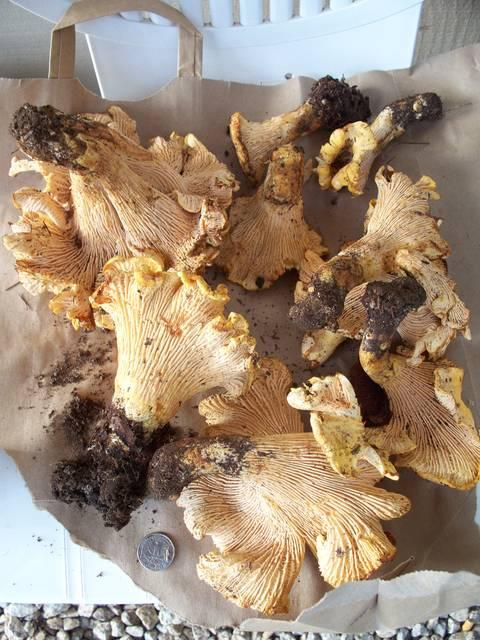Edible Mushroom: (1, 73, 479, 620)
